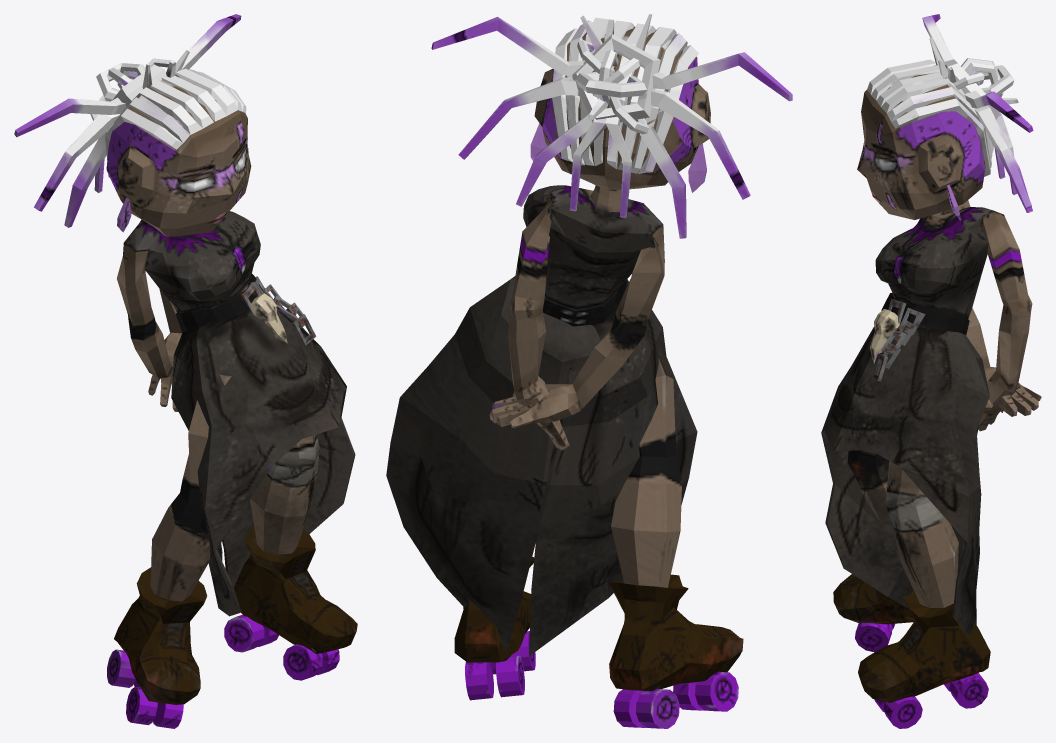
Rendered from bruja_000027.obj.
The picture shows the model from 3 angles, left to right: view 1: azimuth 30°, elevation 25°; view 2: azimuth 150°, elevation 25°; view 3: azimuth 270°, elevation 25°; orthographic projection. The views are drawn at different scales.
Parts seen in each view (by area): view 1: Bruja_Plane.001; view 2: Bruja_Plane.001; view 3: Bruja_Plane.001.
Part boxes in pixels (bbox=[...]): Bruja_Plane.001: bbox=[14, 14, 357, 728]; Bruja_Plane.001: bbox=[386, 14, 792, 728]; Bruja_Plane.001: bbox=[821, 14, 1041, 728].
Bounding box in the file's own units: 9.16 × 15.98 × 5.18.
